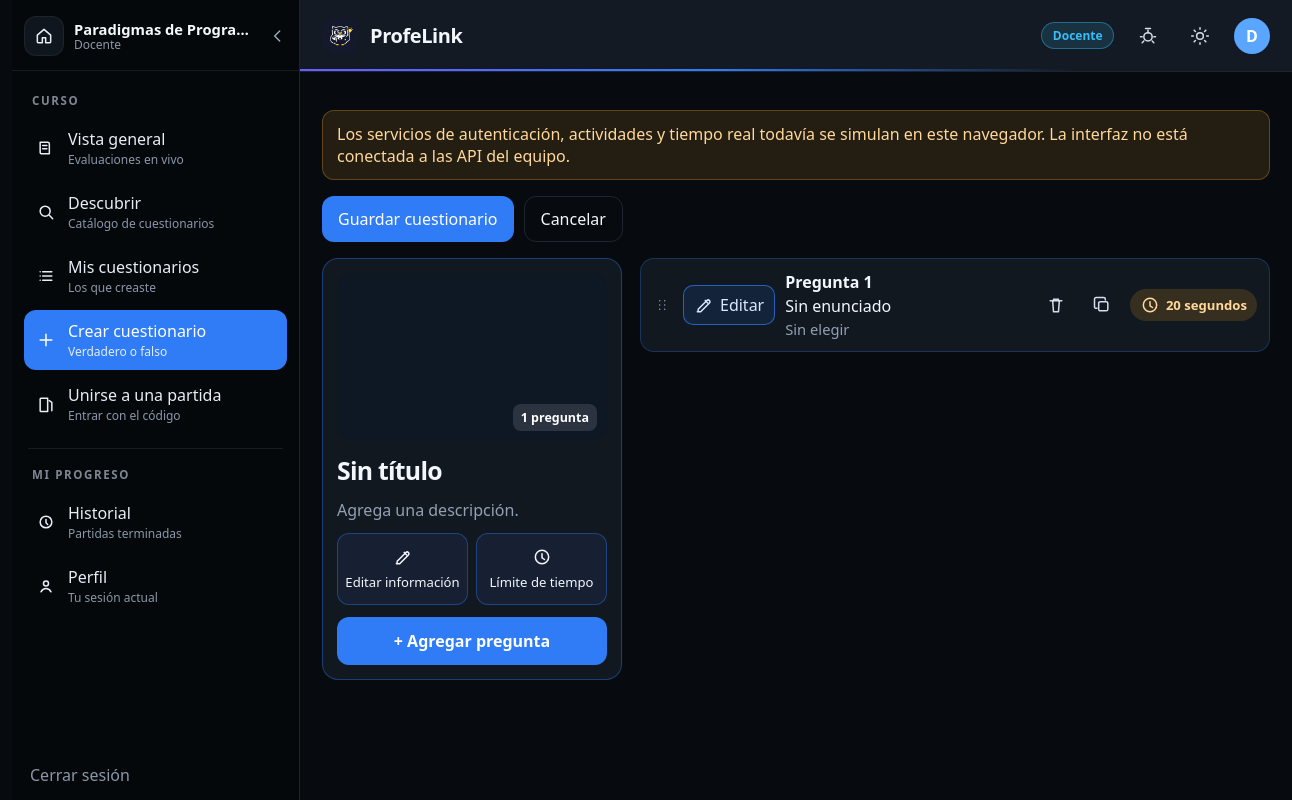
cuestionarios › no guarda un cuestionario sin título ni respuesta correcta
Click the button "Guardar cuestionario" at coordinates (418, 219), box left=322, top=196, right=514, bottom=242
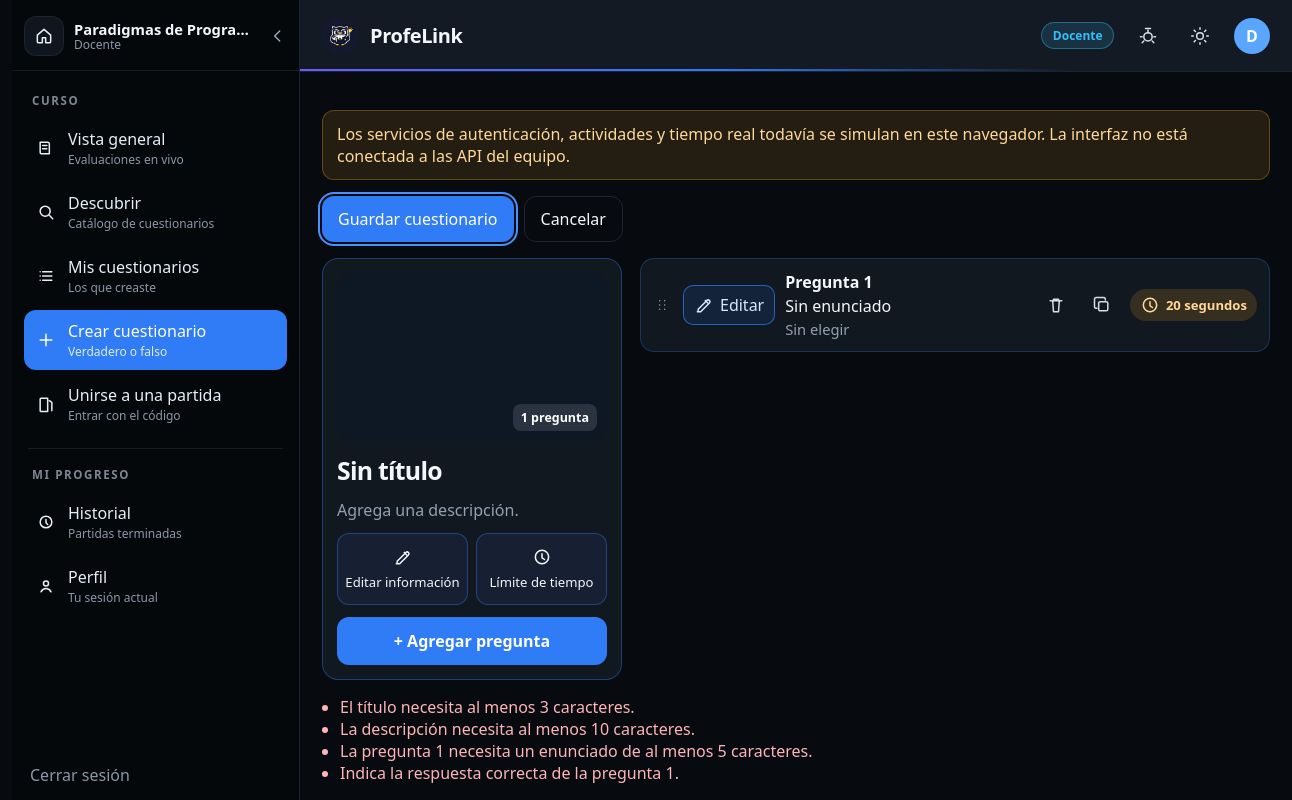
Now the list item "El título necesita al menos 3 caracteres." is shown, box left=340, top=696, right=635, bottom=718
Now the list item "Indica la respuesta correcta de la pregunta 1." is shown, box left=340, top=762, right=679, bottom=784
